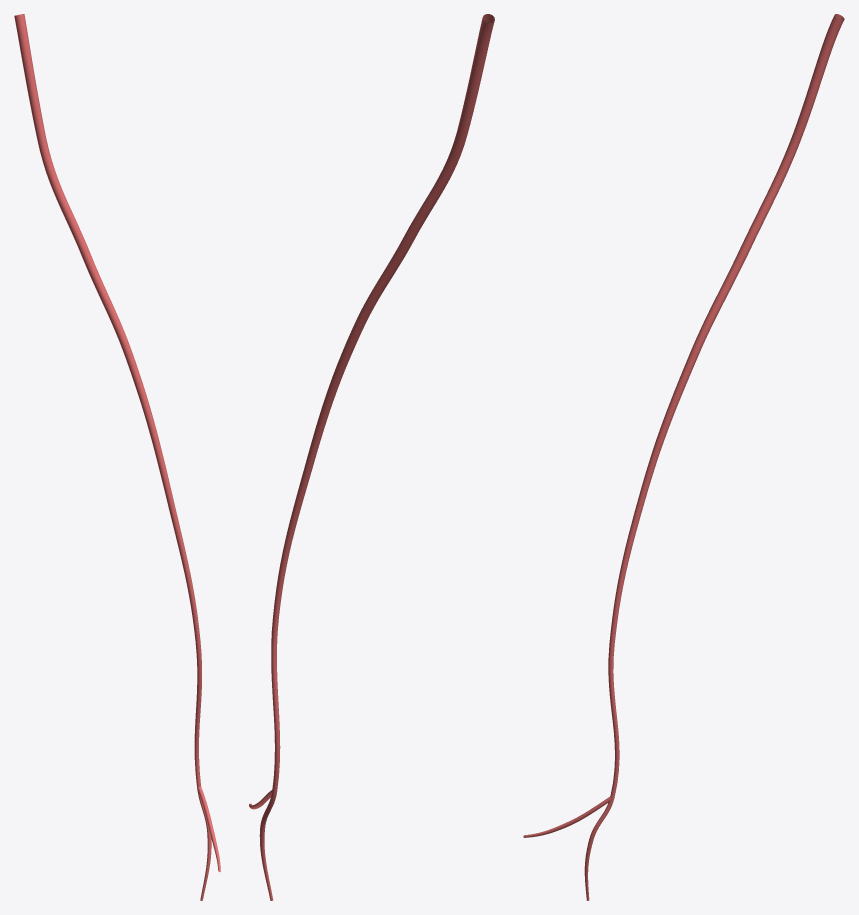
Rendered from Lateral_thoracic_artery.r.002_BezierCurve.197.glb.
3 renders of one model, left to right at view 1: azimuth 30°, elevation 25°; view 2: azimuth 210°, elevation 25°; view 3: azimuth 270°, elevation 25°, orthographic. The views are drawn at different scales.
Parts seen in each view (by area): view 1: Lateral_thoracic_artery.r.002_BezierCurve.197; view 2: Lateral_thoracic_artery.r.002_BezierCurve.197; view 3: Lateral_thoracic_artery.r.002_BezierCurve.197.
Boxes of the visible parts, bbox=[...] form: Lateral_thoracic_artery.r.002_BezierCurve.197: bbox=[14, 14, 220, 900]; Lateral_thoracic_artery.r.002_BezierCurve.197: bbox=[249, 14, 494, 900]; Lateral_thoracic_artery.r.002_BezierCurve.197: bbox=[523, 14, 844, 900].
Bounding box in the file's own units: 0.0216 × 0.2138 × 0.0729.
